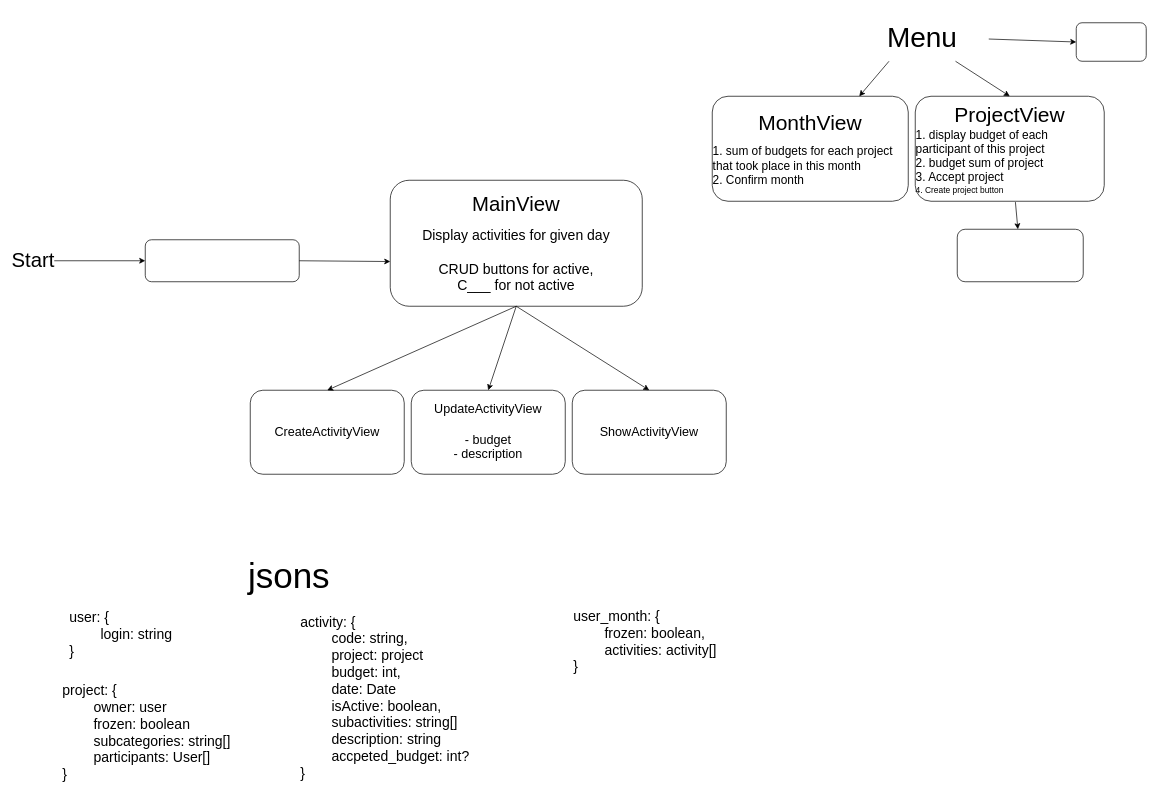
Some shapes in this 1159 by 811 pixel diagram are drawn without their labels. The shapes that lost their labels are listed below. From the top down, each one's box as (x1, y1, x2, y2) in pixels, then its label:
(1076, 22, 1146, 61): Logout
(145, 239, 299, 282): Login/ register
(957, 229, 1083, 282): CreateProjectView
